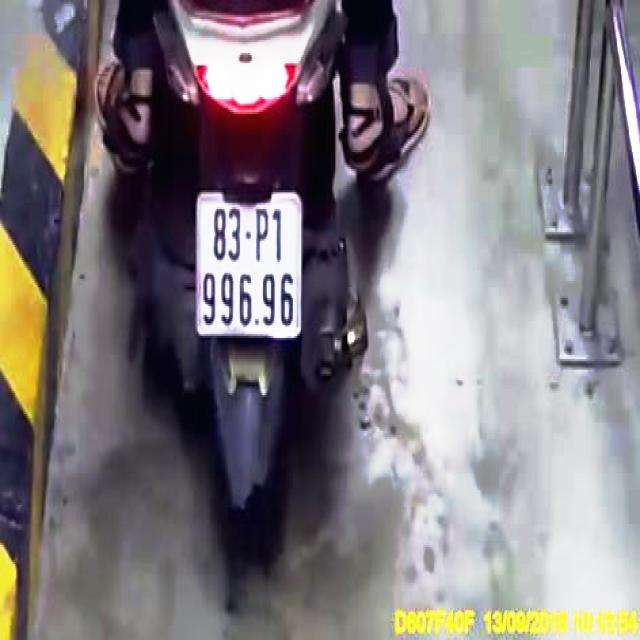license_plate: (197, 198, 302, 331)
